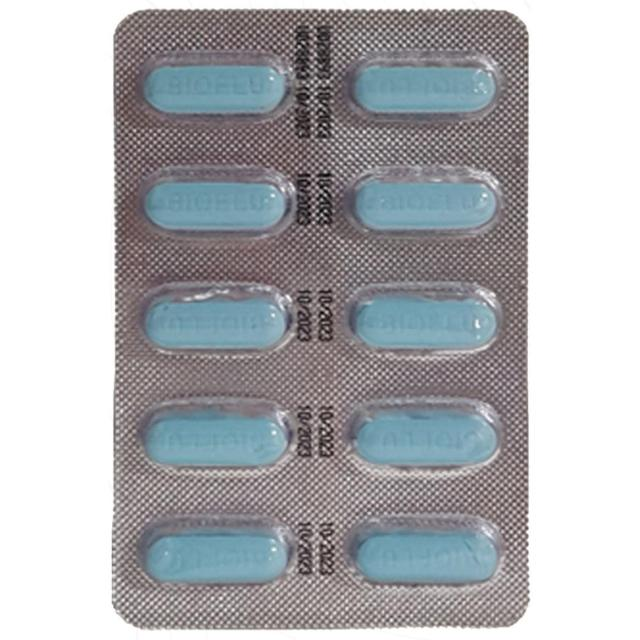blister: (106, 2, 530, 628)
